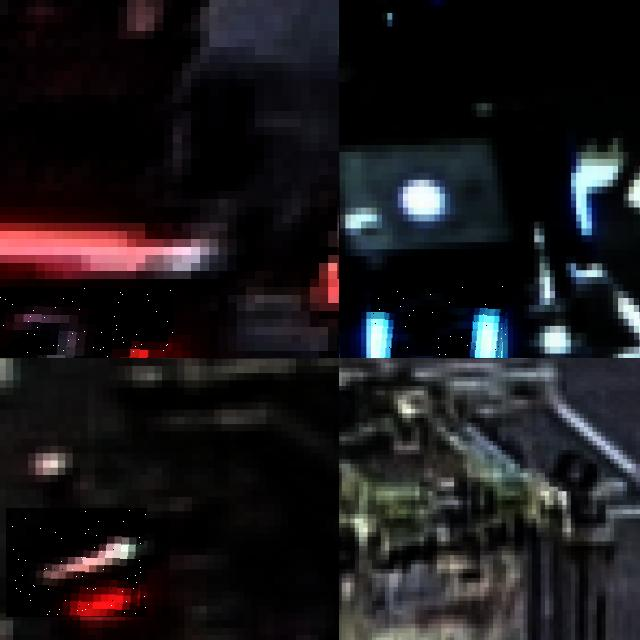Bs: (371, 284, 507, 358)
R1: (6, 508, 147, 617)
R3: (0, 287, 173, 358)
